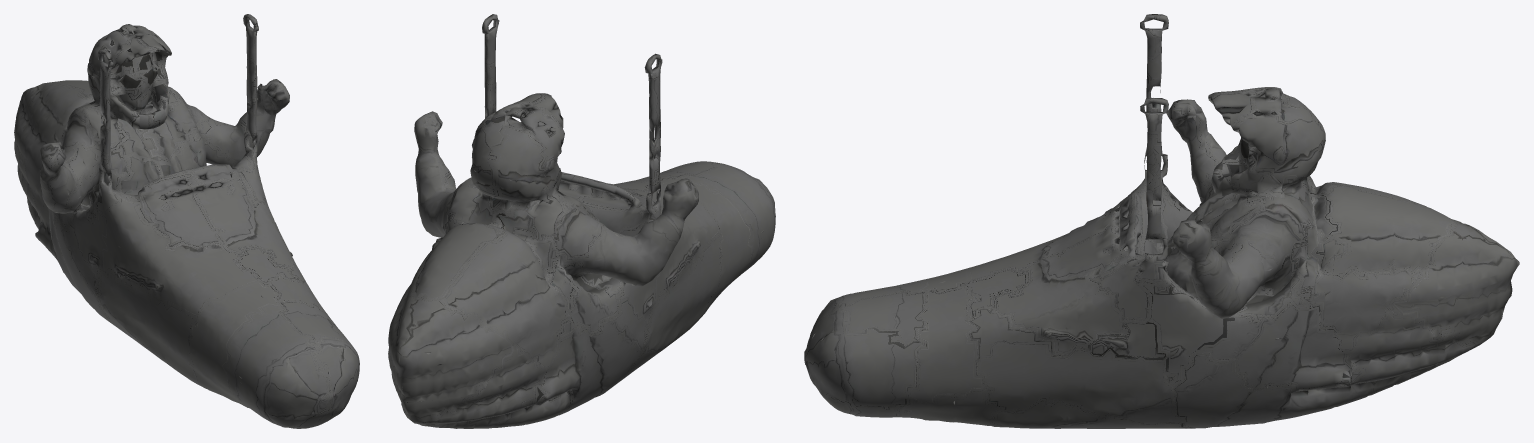
File: pilot-pod.glb
3 views of the same model, side by side, from view 1: azimuth 30°, elevation 25°; view 2: azimuth 150°, elevation 25°; view 3: azimuth 270°, elevation 25° (orthographic). The views are drawn at different scales.
Visible parts, largest first — view 1: PilotPod; view 2: PilotPod; view 3: PilotPod.
Part boxes in pixels (x1,y1,x2,y2): PilotPod: (14,14,359,428); PilotPod: (388,14,775,428); PilotPod: (804,14,1519,428).
Bounding box in the file's own units: 0.4687 × 0.5522 × 0.9983.
Materials: 1 (1 with a texture image).
